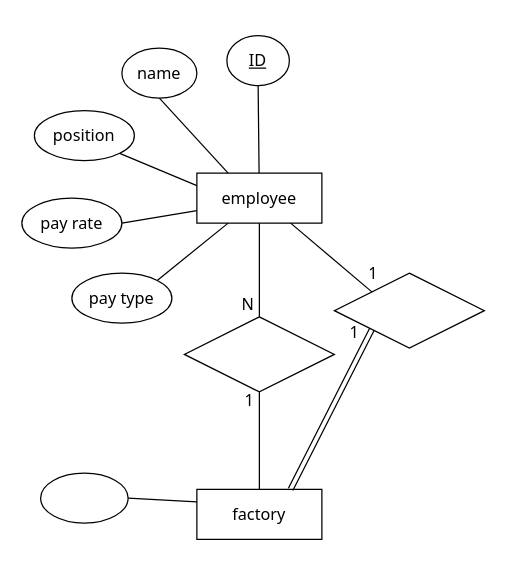
This 506x575 diagram has some shape labels left out. The centre of each missing label's shape, as x and y in pixels:
"city" belongs at [83,497].
"manages" belongs at [408,310].
"works at" belongs at [258,354].
